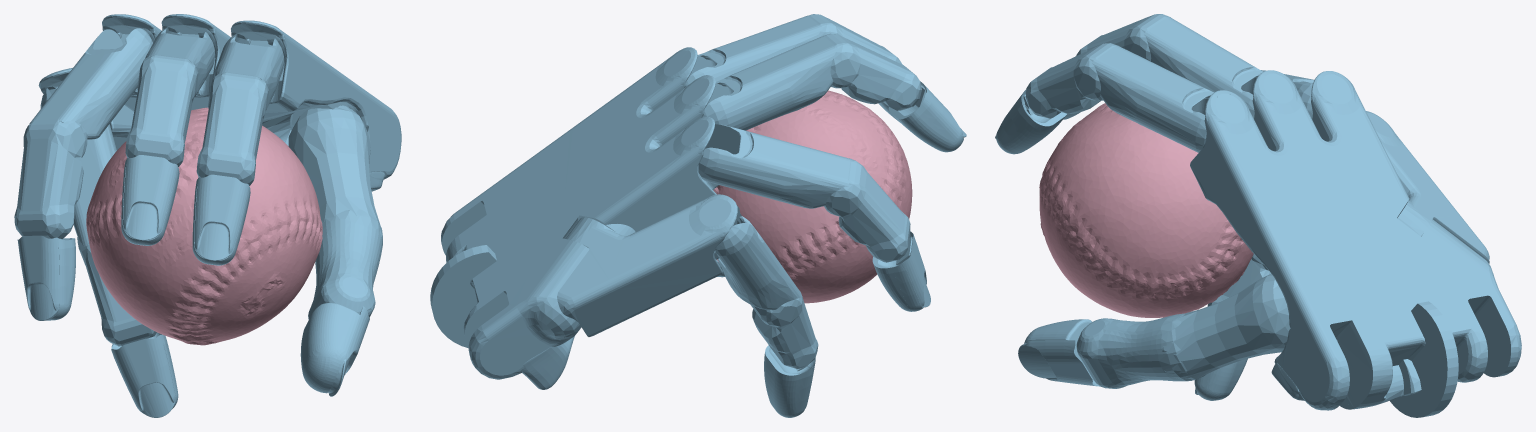
3 views of the same model, side by side, from view 1: azimuth 30°, elevation 25°; view 2: azimuth 150°, elevation 25°; view 3: azimuth 270°, elevation 25° (orthographic). The views are drawn at different scales.
Parts seen in each view (by area): view 1: world, baseball.stl; view 2: world, baseball.stl; view 3: world, baseball.stl.
Boxes of the visible parts, left/top/right/bottom form: world: left=14, top=14, right=401, bottom=417; baseball.stl: left=86, top=107, right=322, bottom=345; world: left=430, top=14, right=966, bottom=417; baseball.stl: left=713, top=90, right=912, bottom=303; world: left=995, top=14, right=1521, bottom=417; baseball.stl: left=1039, top=103, right=1253, bottom=317.
Bounding box in the file's own units: 0.1609 × 0.1331 × 0.1712.
